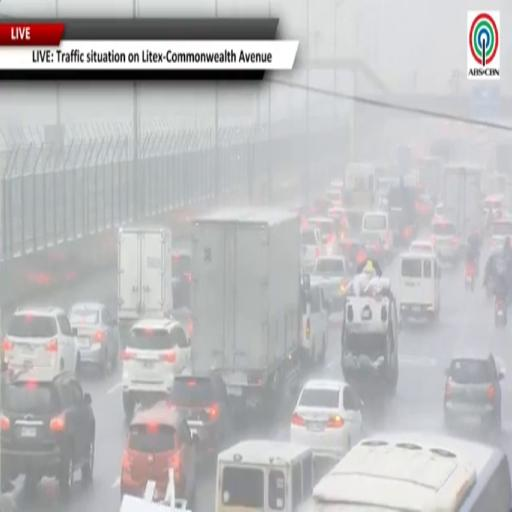car: (0, 368, 95, 492), (120, 400, 198, 509), (122, 317, 190, 419), (291, 379, 363, 458), (3, 307, 79, 373), (169, 374, 231, 454), (444, 350, 504, 431), (69, 302, 119, 376), (300, 276, 328, 366), (313, 255, 349, 311), (362, 212, 393, 258), (430, 220, 461, 264), (308, 217, 338, 254), (173, 250, 191, 309), (339, 238, 368, 274), (300, 228, 323, 269), (328, 206, 350, 241), (490, 218, 511, 249), (362, 232, 384, 261), (415, 194, 434, 221), (409, 239, 435, 255), (326, 188, 342, 205), (433, 202, 444, 221)
motorcycle: (495, 297, 507, 327), (465, 263, 476, 291)
truck: (191, 207, 301, 415), (342, 270, 399, 395), (117, 227, 172, 333), (442, 164, 483, 243)
